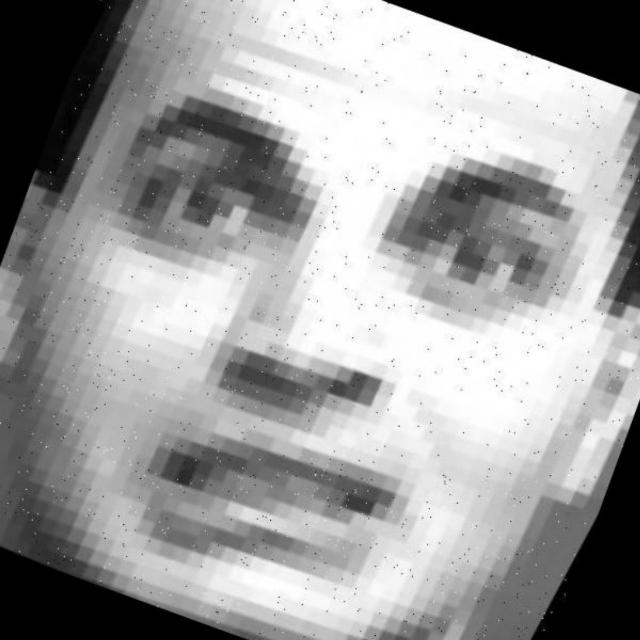Disgust: (3, 13, 640, 637)
